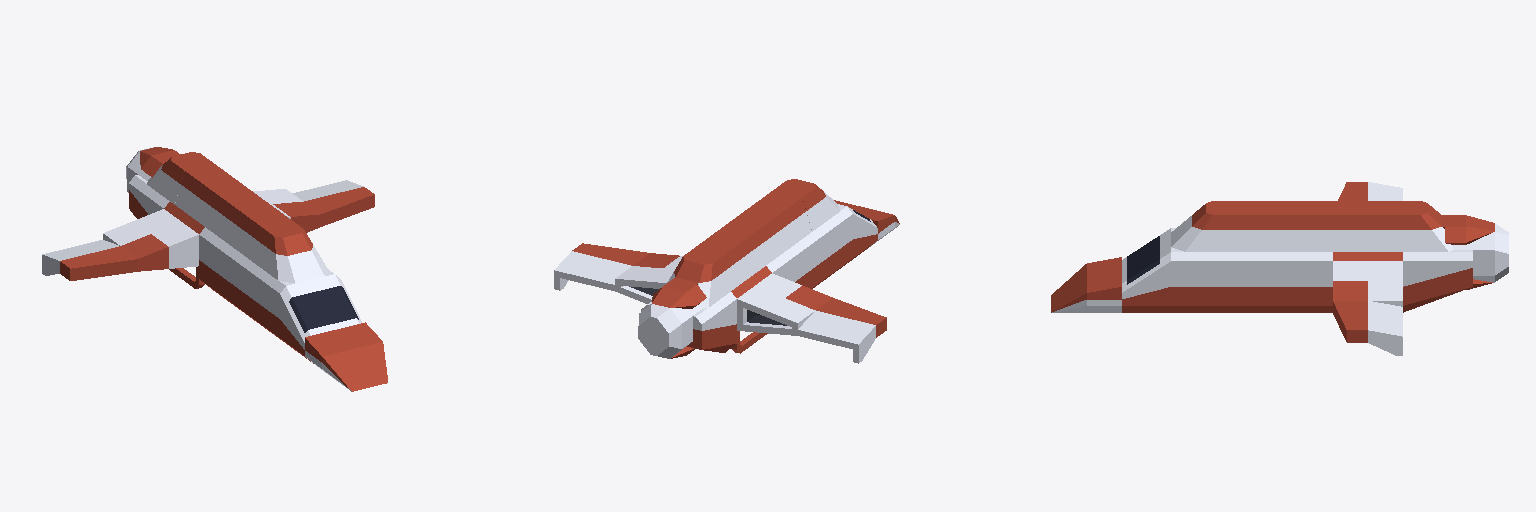
3 renders of one model, left to right at view 1: azimuth 30°, elevation 25°; view 2: azimuth 150°, elevation 25°; view 3: azimuth 270°, elevation 25°, orthographic.
Visible parts, largest first — view 1: mergedBlocks; view 2: mergedBlocks; view 3: mergedBlocks.
Part boxes in pixels (bbox=[...]): mergedBlocks: bbox=[42, 147, 387, 391]; mergedBlocks: bbox=[554, 179, 899, 363]; mergedBlocks: bbox=[1051, 182, 1508, 355].
Size of the model in its own units: 5 by 1.5 by 6.5.
Materials: 1 (1 with a texture image).